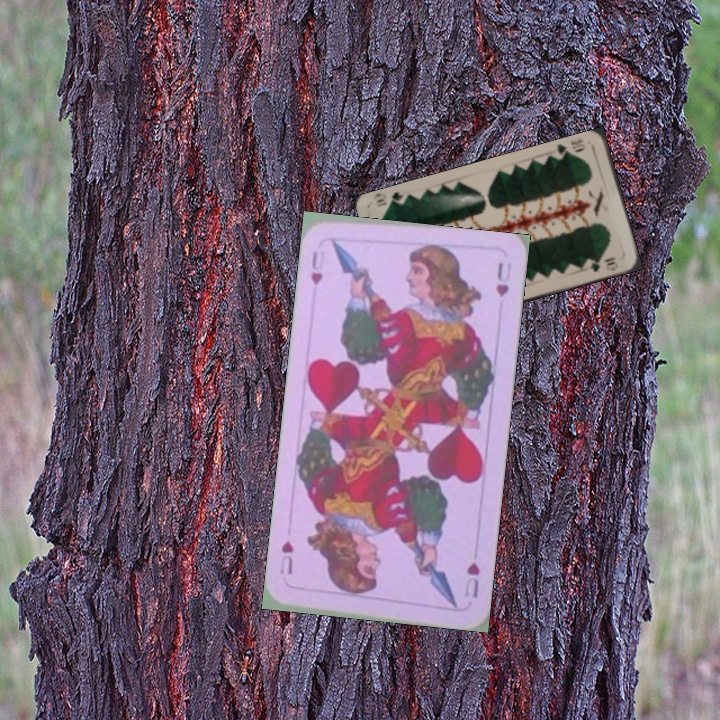G10: (553, 135, 588, 163)
HU: (460, 558, 482, 600), (306, 247, 328, 288)
